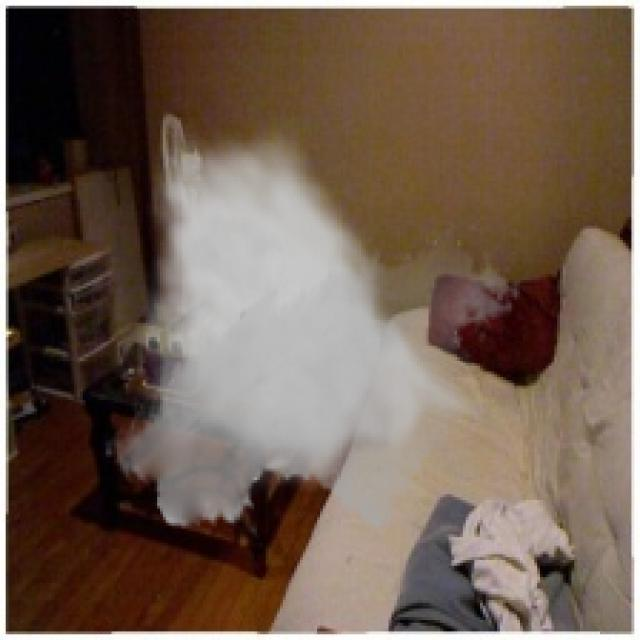Smoke: (103, 117, 523, 540)
